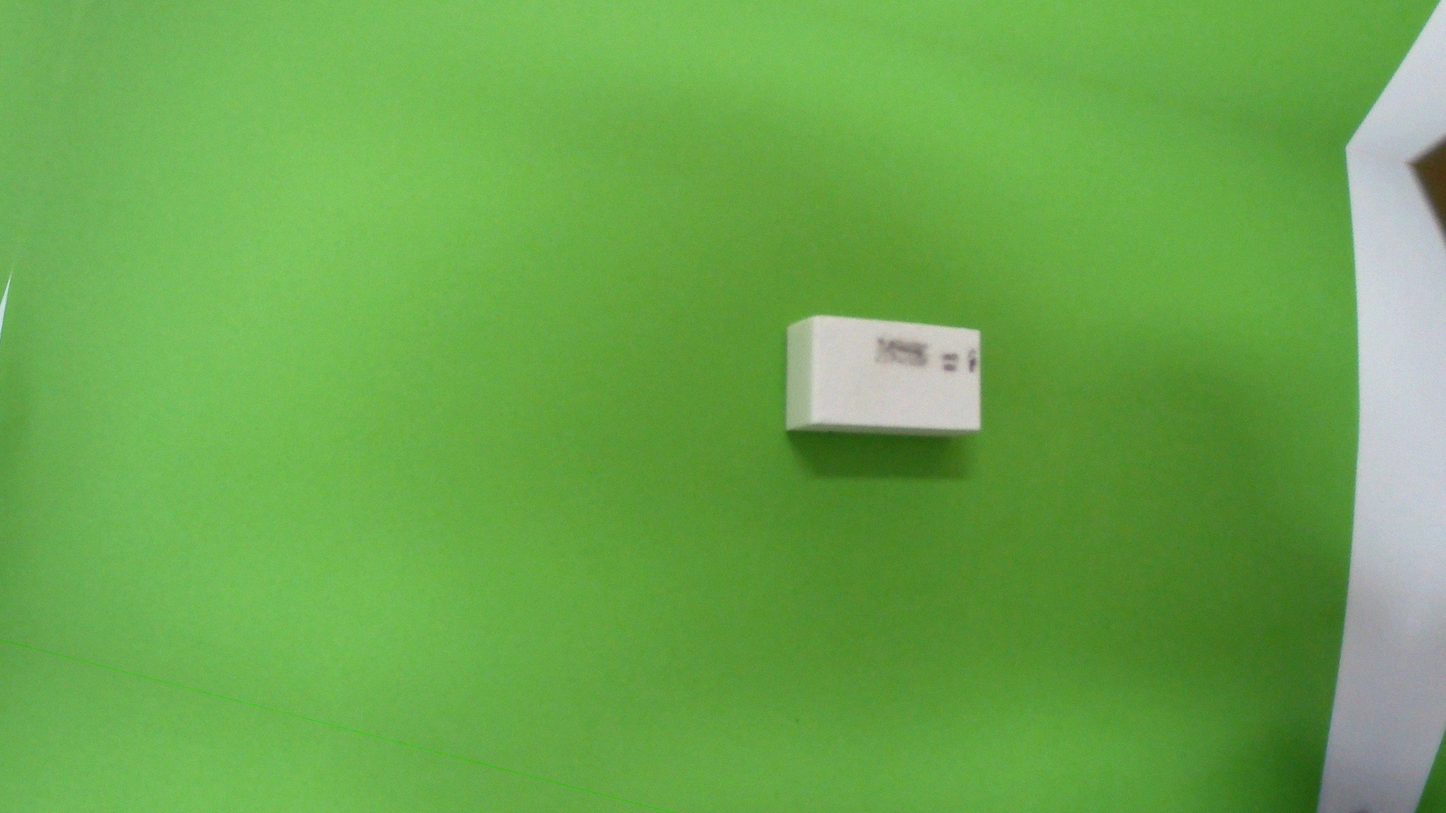gom: (762, 276, 1003, 483)
